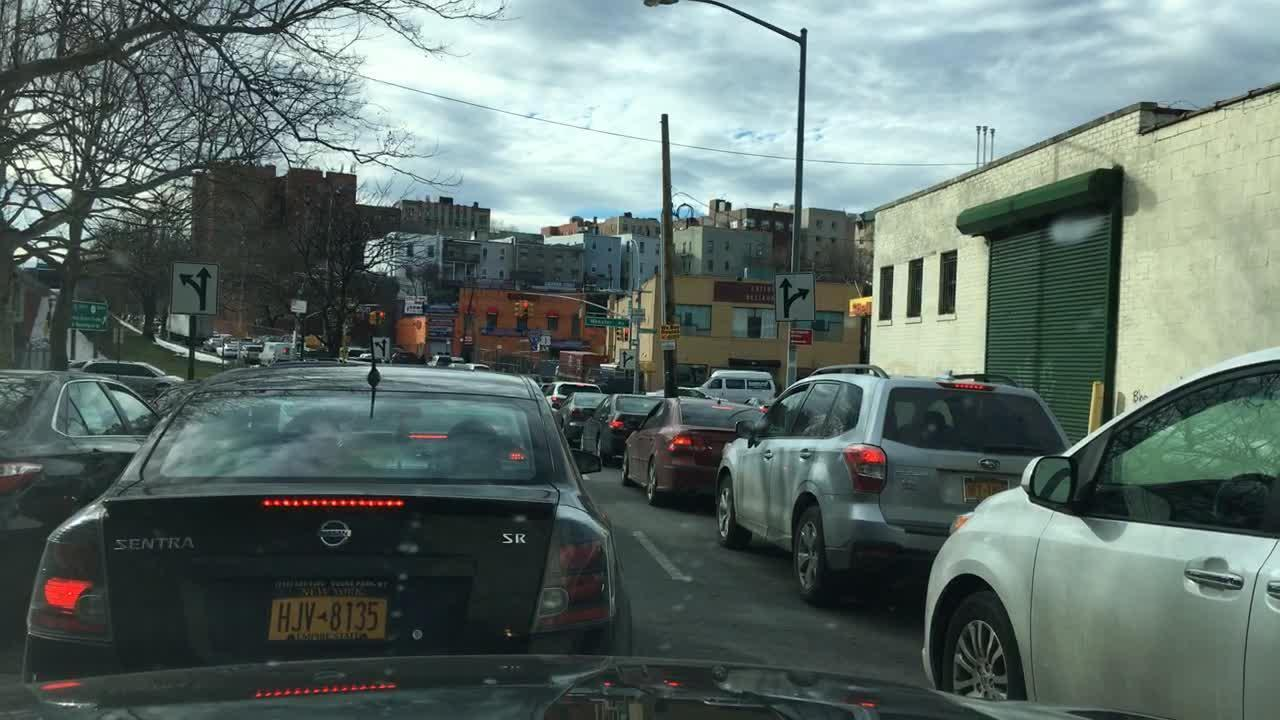Nissan: (305, 514, 363, 555)
subaru: (974, 450, 1009, 472)
